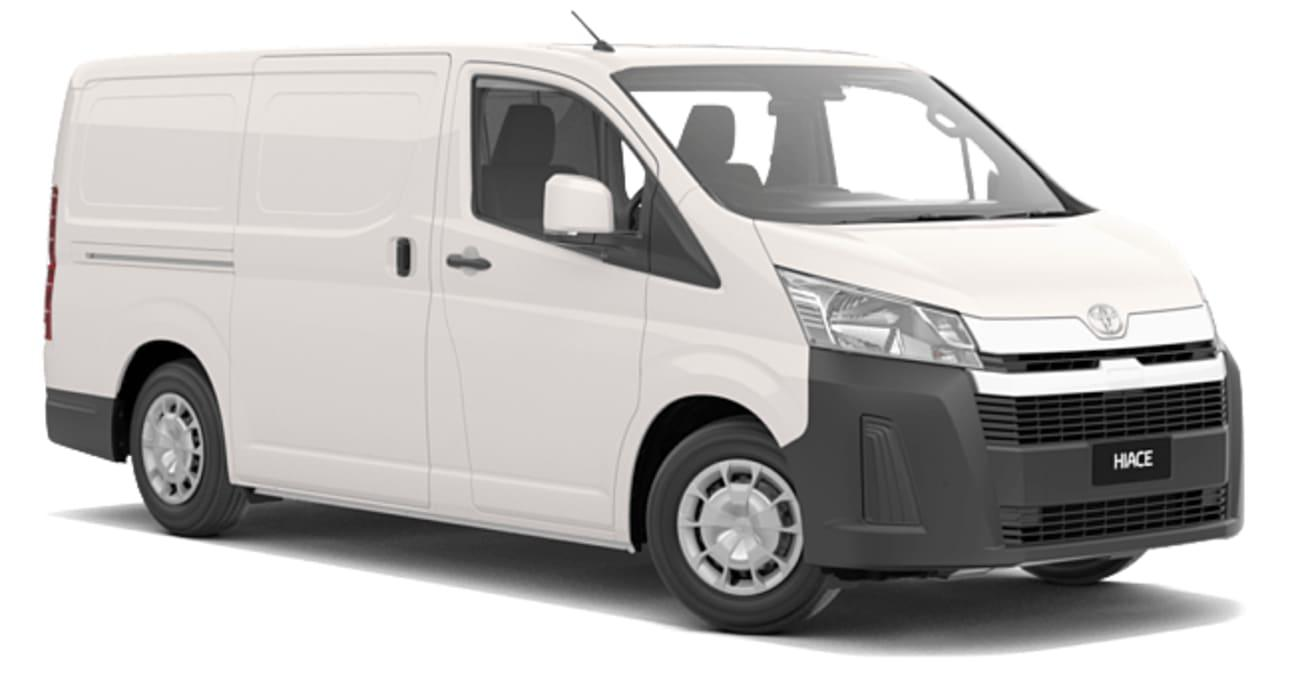van: (42, 42, 1245, 636)
